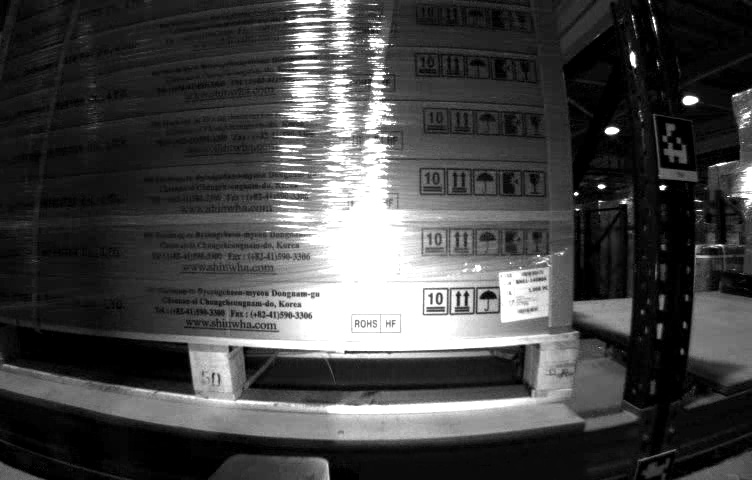True Barcode: (496, 266, 559, 318)
